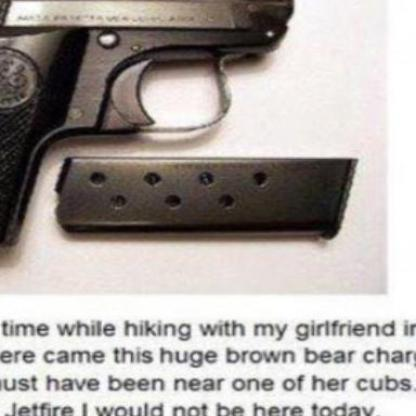gun: (0, 0, 294, 254)
